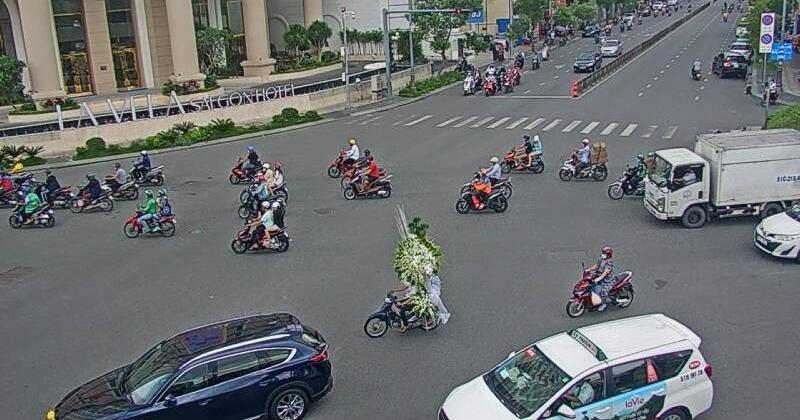xe hoi: (43, 308, 335, 419), (435, 312, 716, 420)
xe may: (362, 262, 447, 336), (565, 244, 634, 314), (233, 199, 292, 256), (122, 188, 177, 237), (454, 167, 508, 212), (342, 153, 392, 200), (556, 136, 608, 181), (238, 161, 288, 204), (7, 187, 56, 228), (66, 172, 113, 214), (500, 132, 546, 173), (125, 149, 164, 186)
xe tai: (642, 124, 798, 230)
